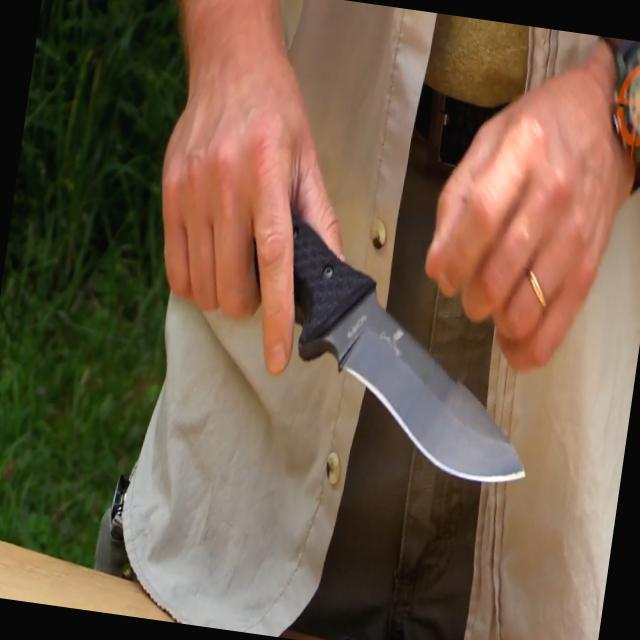knife: (119, 125, 576, 502)
